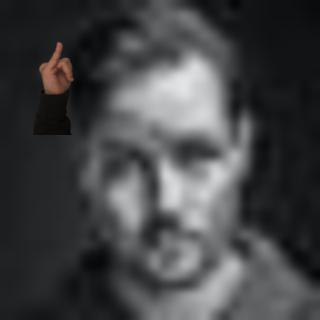HAVE: (33, 38, 77, 95)
